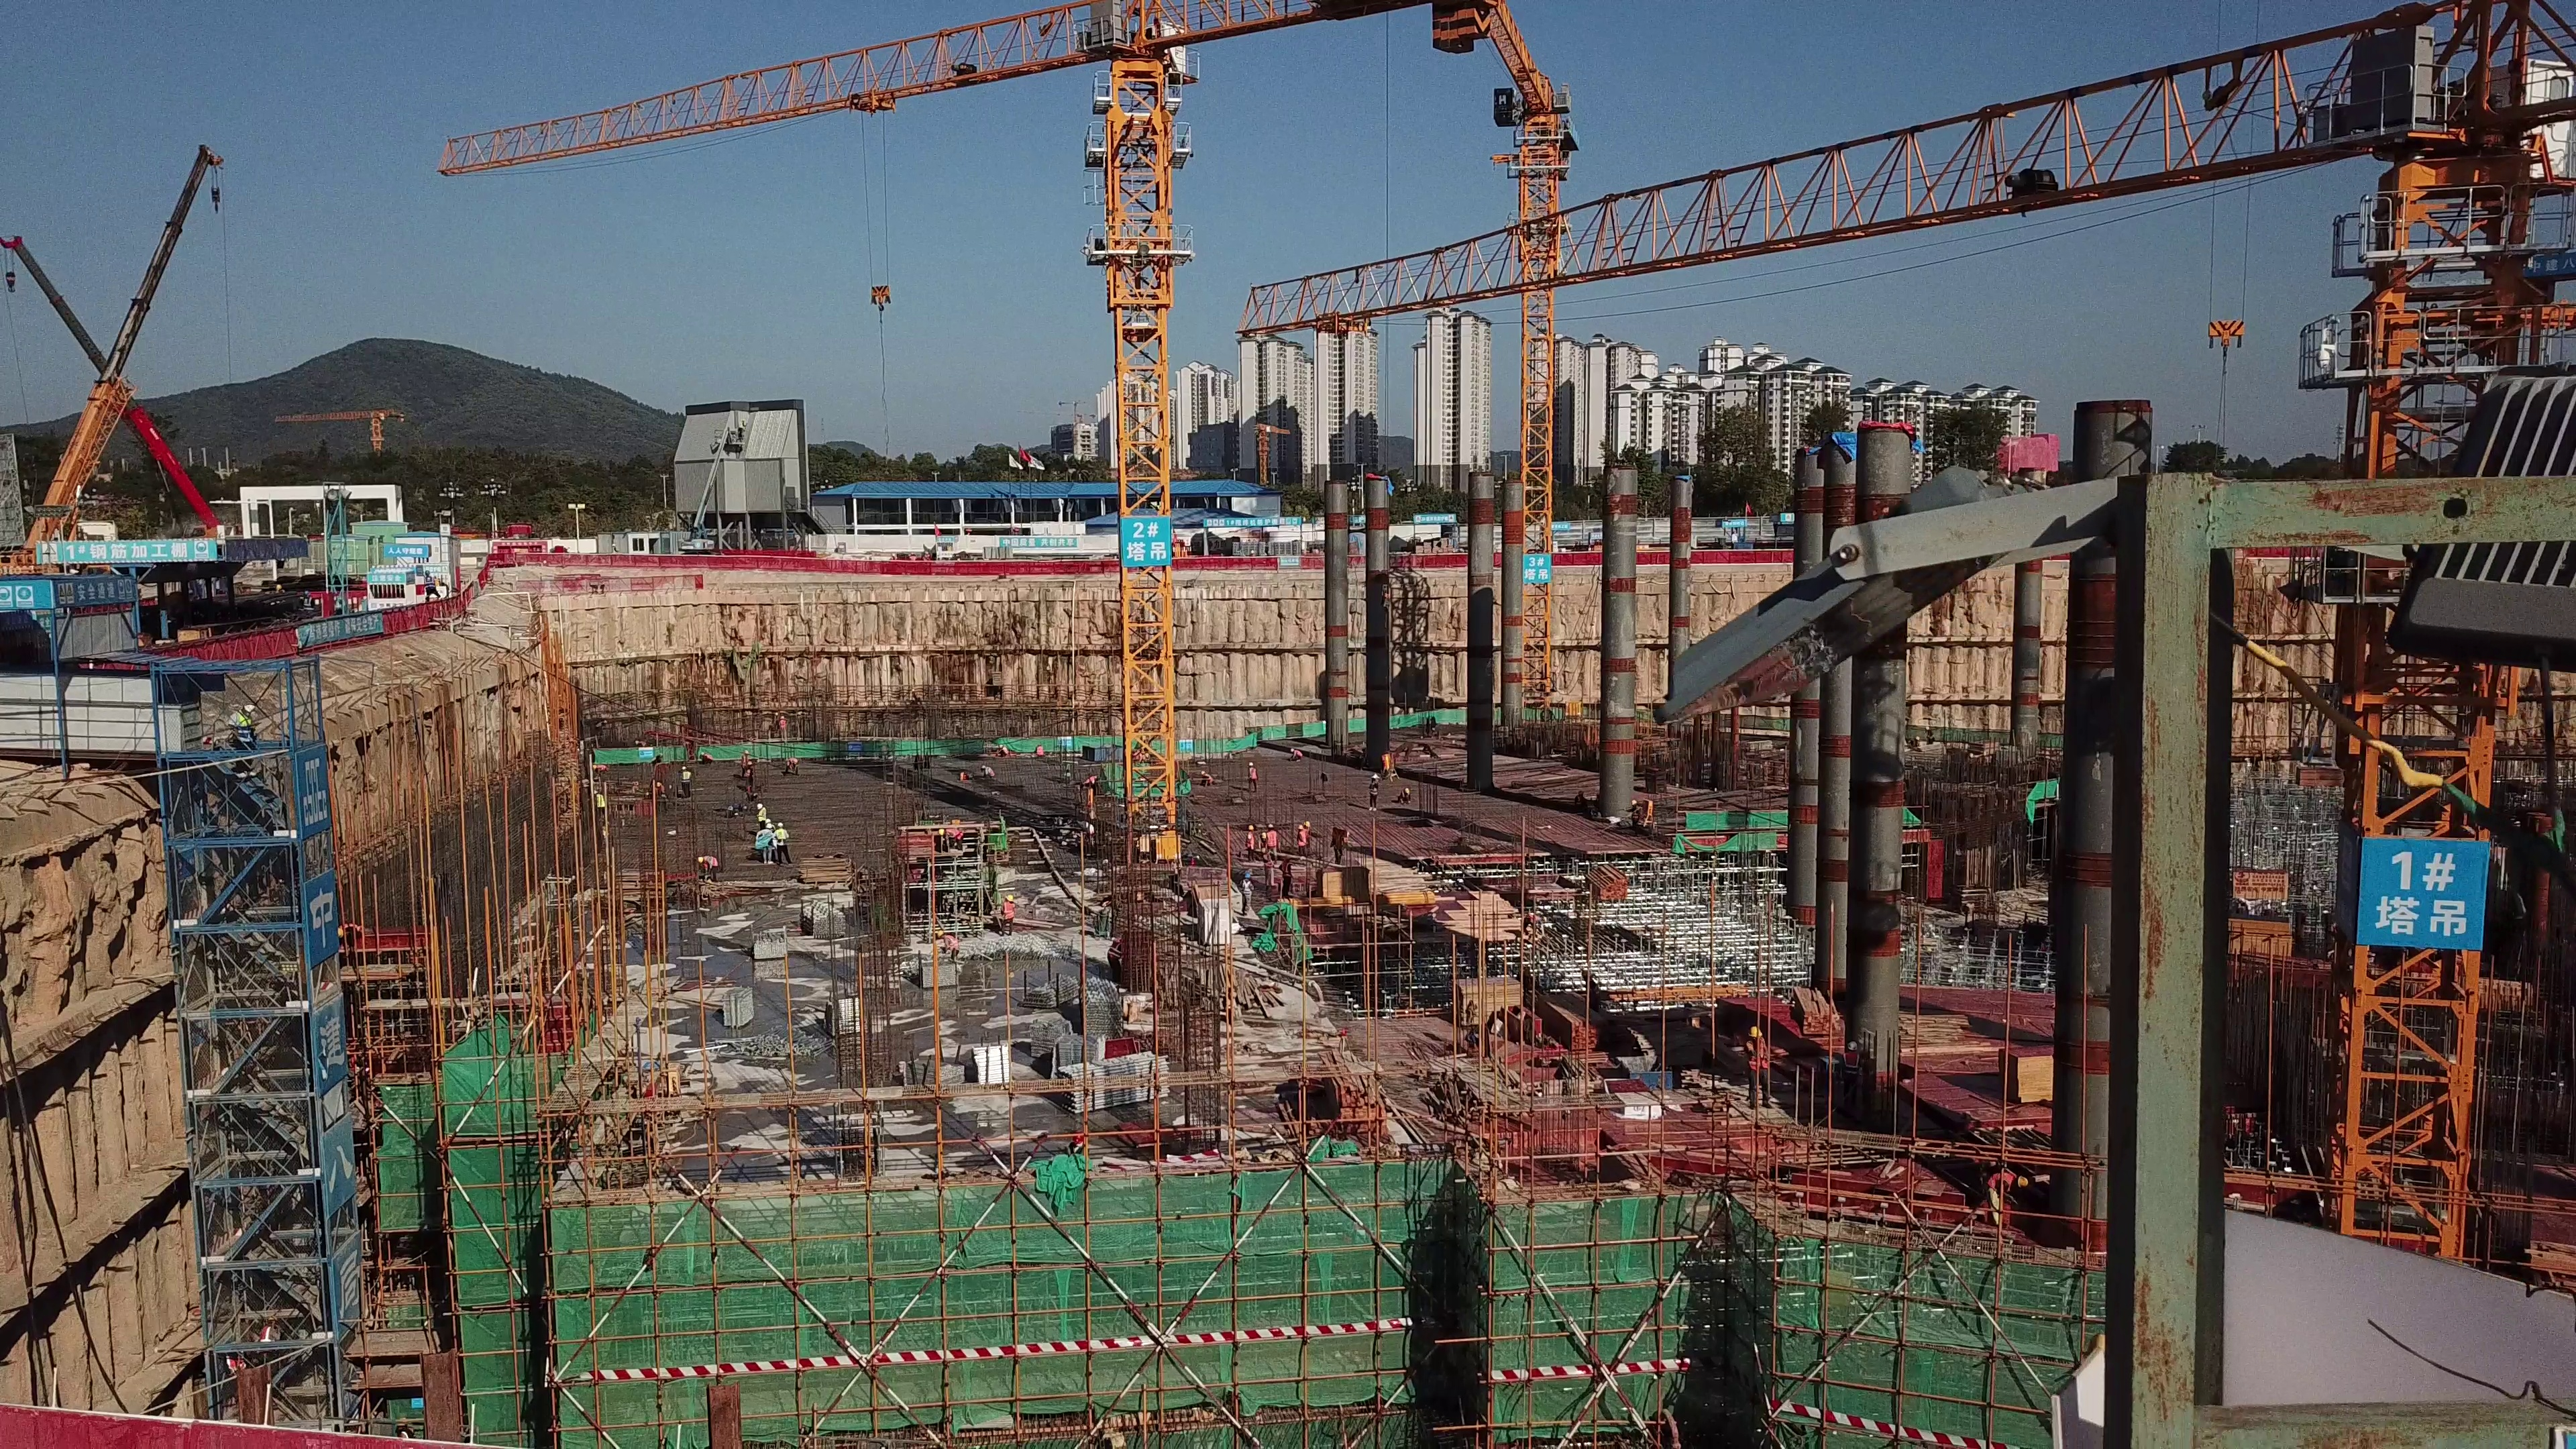helmet: (1748, 1024, 1764, 1039), (2015, 1174, 2030, 1189), (241, 702, 257, 715), (334, 925, 346, 941), (936, 930, 945, 938), (1006, 894, 1014, 902), (1305, 820, 1311, 828), (1403, 786, 1410, 795), (592, 790, 599, 797), (681, 765, 688, 771), (756, 803, 763, 810), (767, 823, 773, 830), (938, 828, 945, 836), (1248, 824, 1255, 831), (1260, 833, 1267, 840), (592, 765, 597, 771), (743, 749, 750, 756), (697, 856, 703, 864), (777, 822, 784, 828), (1244, 871, 1251, 878), (1297, 824, 1303, 830), (780, 715, 786, 720), (746, 761, 753, 765), (765, 820, 771, 824), (998, 745, 1004, 749), (1290, 747, 1295, 753), (1269, 823, 1274, 828), (981, 765, 987, 768), (1201, 770, 1205, 775), (1248, 762, 1254, 767)
person: (1741, 1026, 1776, 1108), (1984, 1171, 2031, 1232), (231, 705, 262, 752), (337, 921, 364, 970), (936, 929, 961, 960), (773, 822, 792, 862), (755, 825, 774, 858), (696, 855, 718, 882), (1002, 894, 1015, 938), (1279, 856, 1294, 900), (1240, 872, 1254, 911), (1267, 820, 1279, 865), (938, 828, 963, 849), (1294, 824, 1308, 861), (1246, 758, 1259, 792), (593, 790, 606, 820), (1245, 824, 1256, 861), (1368, 774, 1381, 810), (745, 763, 755, 794), (755, 802, 767, 834), (1301, 818, 1311, 854), (681, 766, 692, 797), (1258, 833, 1269, 864), (1397, 787, 1414, 806), (785, 757, 801, 776), (592, 764, 608, 780), (780, 714, 790, 743), (1289, 746, 1304, 764), (742, 749, 750, 776), (981, 763, 995, 780), (1200, 771, 1213, 786), (765, 818, 776, 833), (1035, 743, 1045, 759), (998, 745, 1008, 757)
vest: (1747, 1040, 1769, 1070), (1988, 1171, 2015, 1195), (238, 711, 254, 738), (702, 855, 718, 871), (344, 920, 364, 934), (1002, 902, 1016, 922), (945, 828, 963, 841), (946, 934, 959, 951), (757, 808, 767, 826), (1242, 879, 1252, 898), (1246, 832, 1255, 851), (1282, 862, 1293, 878), (1268, 830, 1277, 848), (596, 794, 606, 808), (777, 829, 788, 845), (682, 771, 691, 784), (1370, 782, 1378, 796), (1298, 831, 1306, 848), (1249, 769, 1257, 780), (596, 765, 608, 772), (747, 767, 753, 780), (779, 721, 787, 731), (1205, 774, 1213, 784), (743, 757, 749, 768), (1036, 747, 1044, 756), (987, 767, 994, 777), (1002, 747, 1009, 754), (1295, 749, 1303, 757)
